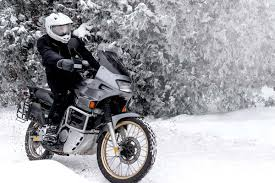motorcycle: (21, 45, 156, 183)
